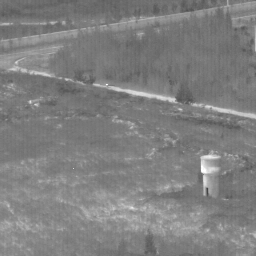aircraft: (106, 84, 108, 86)
